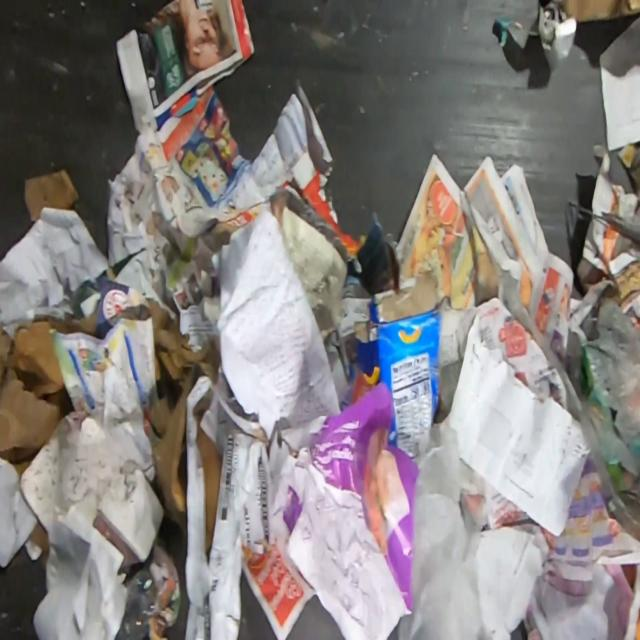cardboard: (353, 272, 444, 460), (146, 297, 222, 513), (356, 220, 402, 294)
metal: (493, 0, 578, 74)
rigid_plastic: (116, 566, 158, 640)
soft_plastic: (396, 423, 493, 640), (584, 300, 640, 441)
